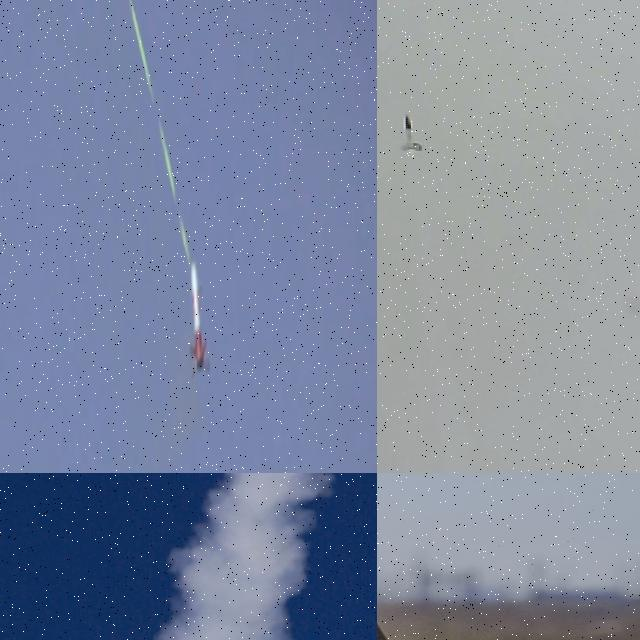Rocket: (377, 473, 398, 640), (188, 262, 211, 377), (399, 114, 424, 152)
